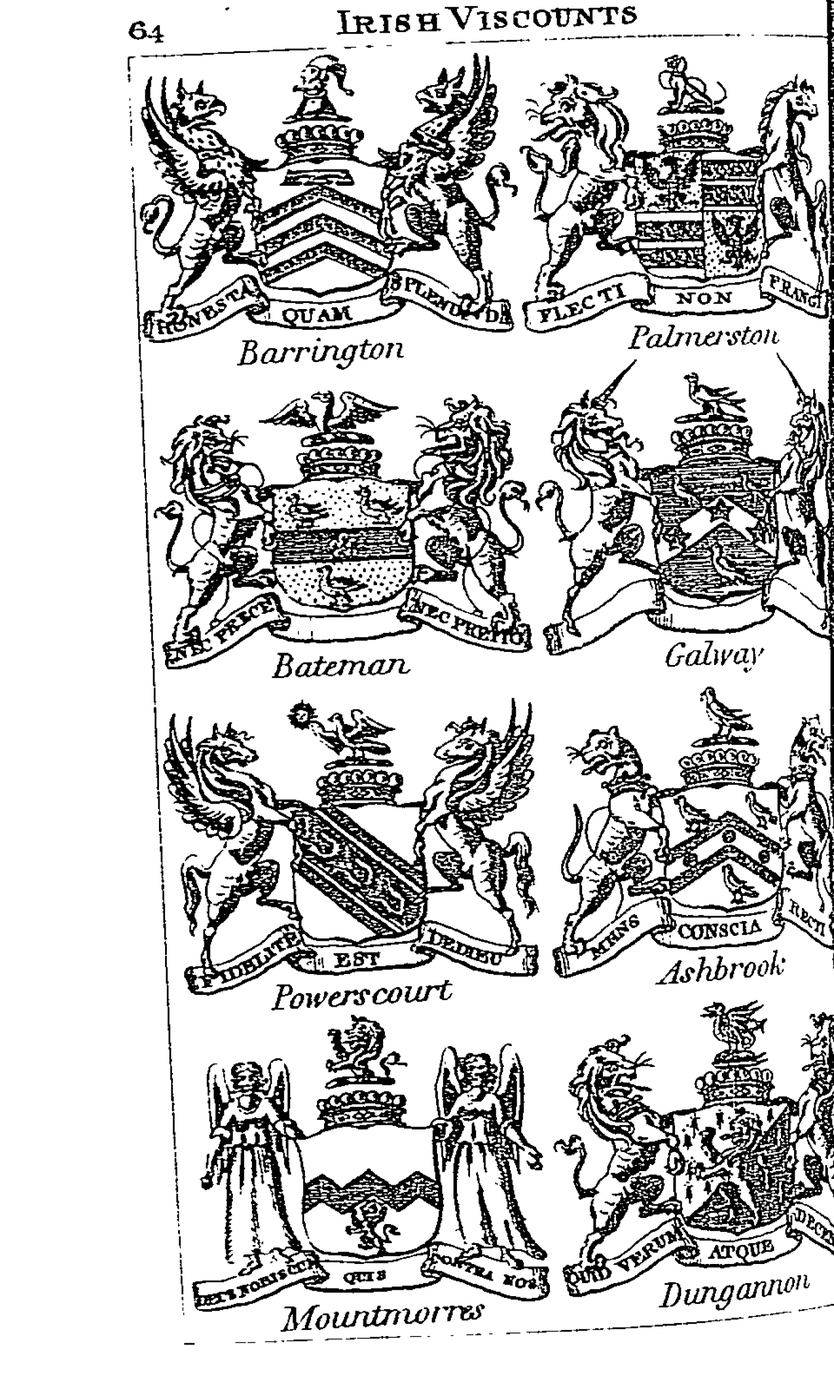coat_of_arms: (159, 683, 550, 1013), (169, 1017, 565, 1333), (148, 376, 537, 682), (137, 57, 516, 366), (537, 354, 834, 686), (522, 49, 832, 366), (545, 684, 834, 995), (568, 996, 834, 1312)
